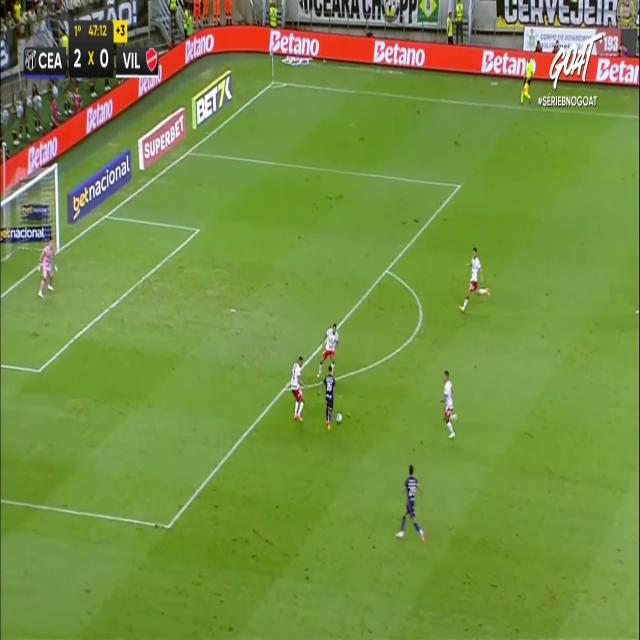ball: (336, 413, 342, 423)
goalkeeper: (37, 236, 57, 298)
player: (395, 464, 425, 542), (458, 246, 490, 312), (440, 369, 458, 438), (317, 322, 339, 377), (318, 363, 336, 430), (290, 356, 304, 422)
referee: (520, 55, 534, 105)
